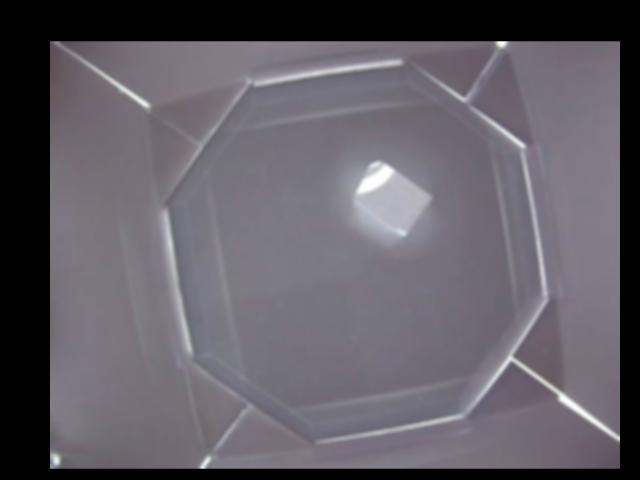China: (356, 161, 431, 236)
